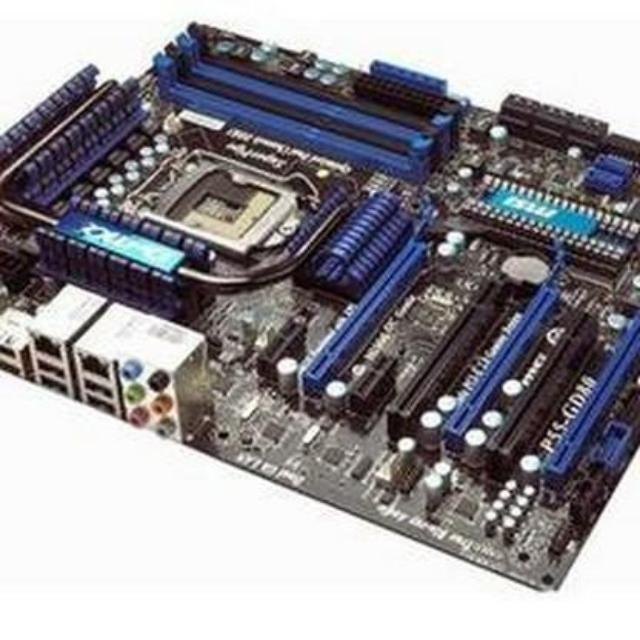Mainboard: (0, 12, 640, 598)
